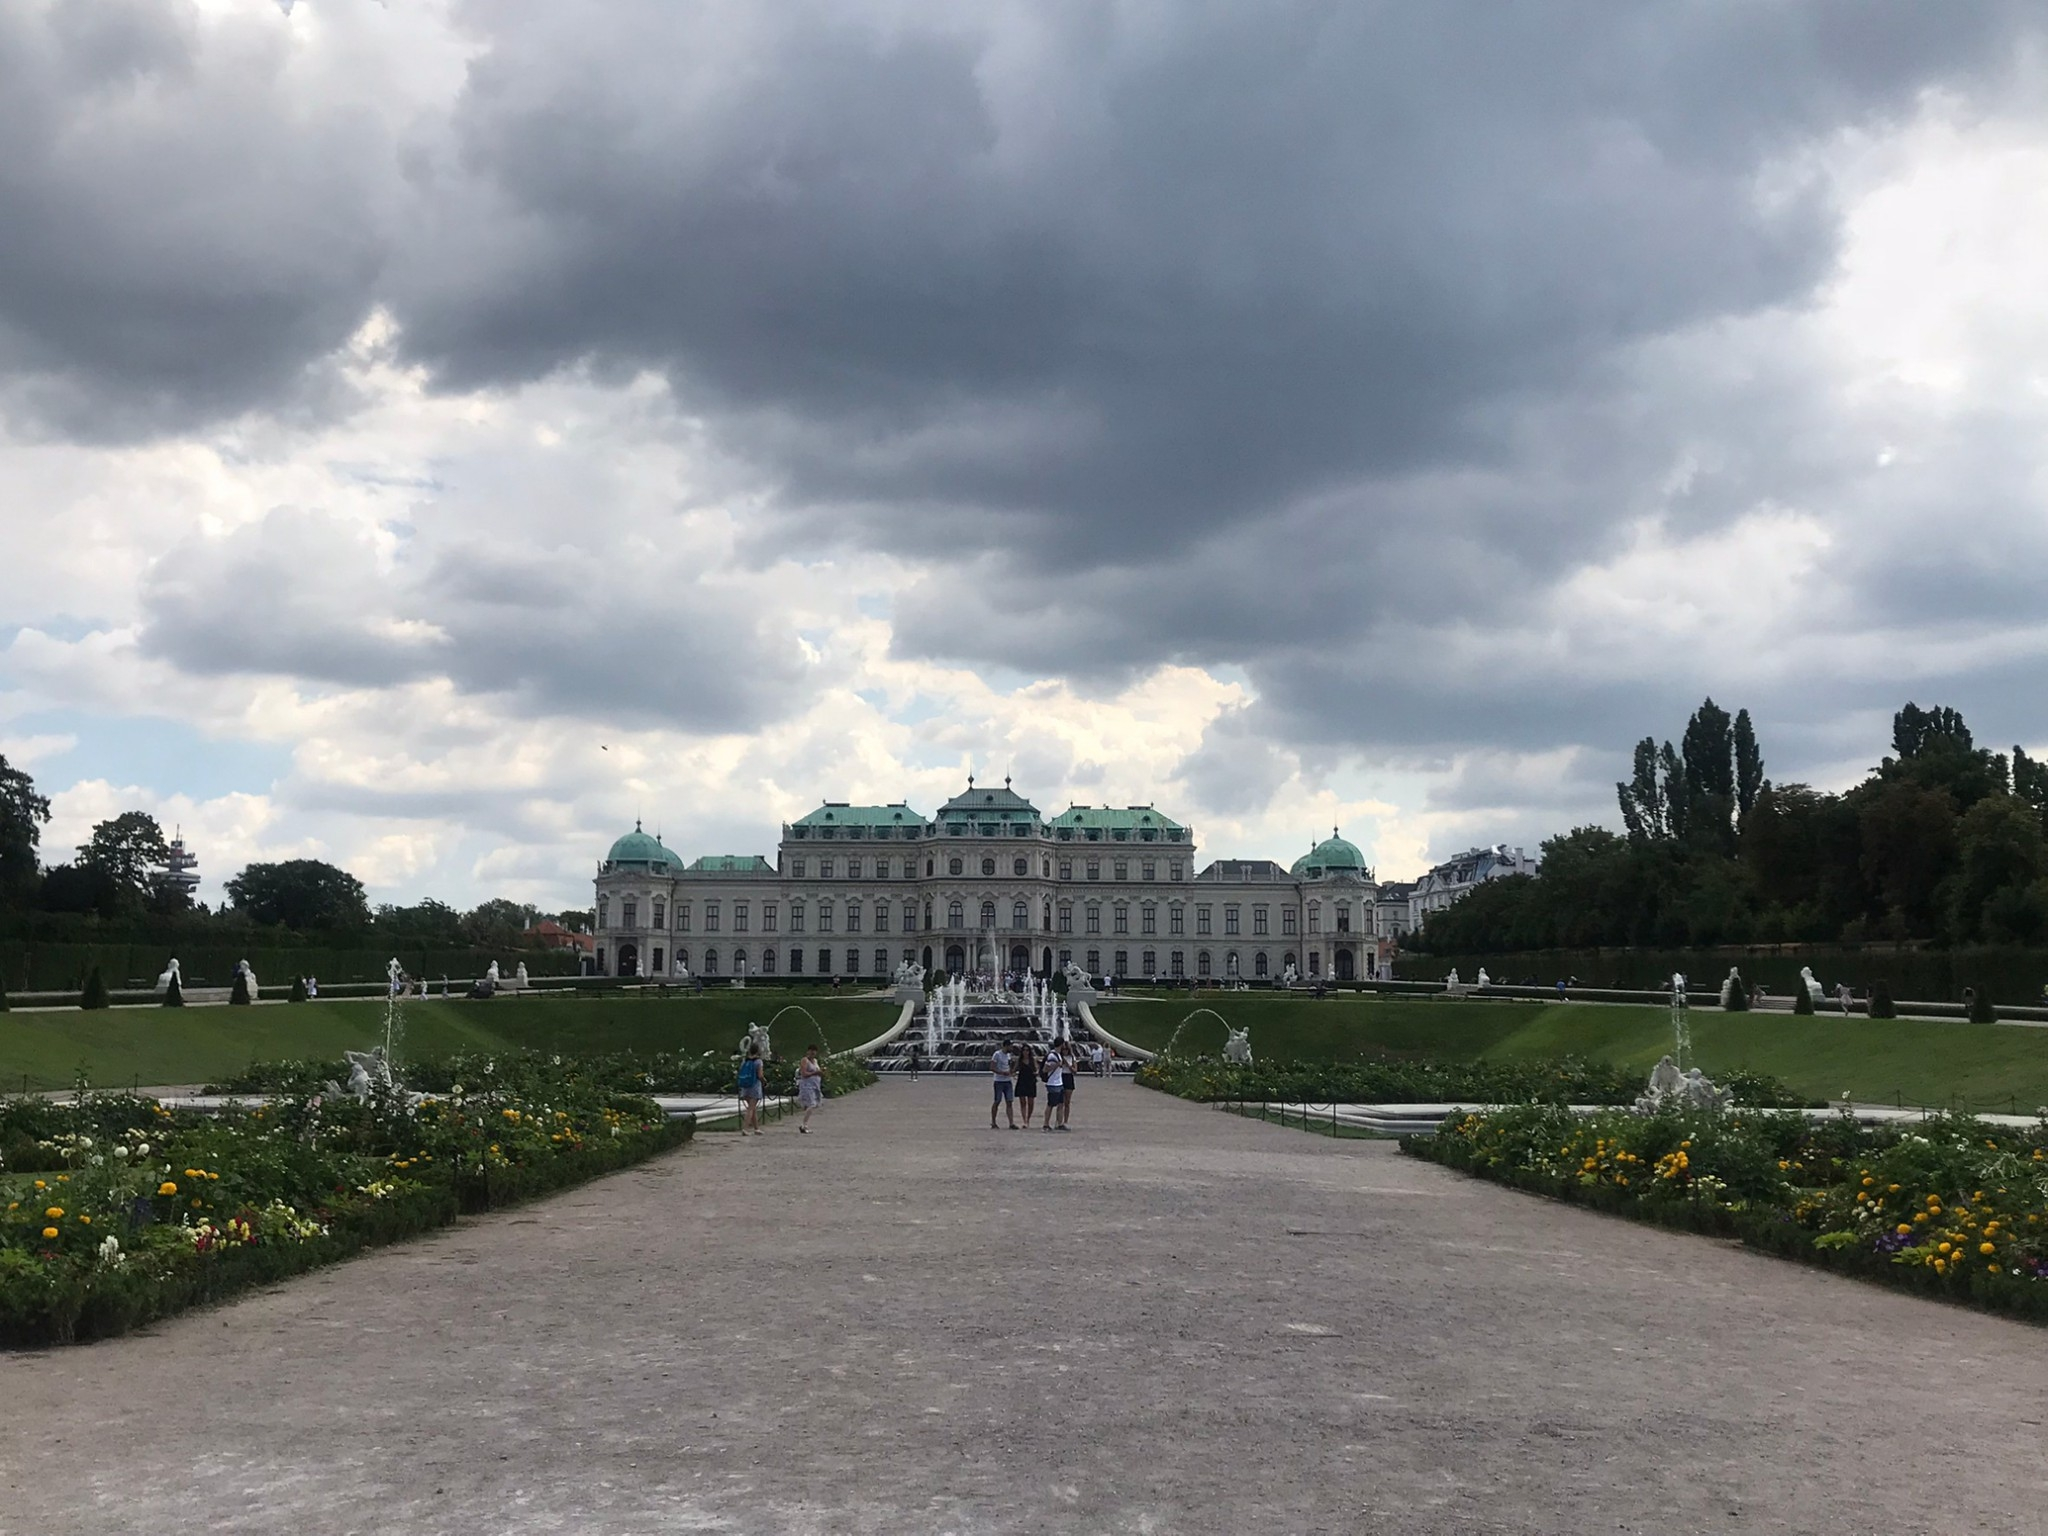people: (793, 1043, 831, 1128), (1043, 1034, 1078, 1128), (734, 1046, 769, 1134), (1013, 1025, 1043, 1125), (990, 1037, 1016, 1125)
